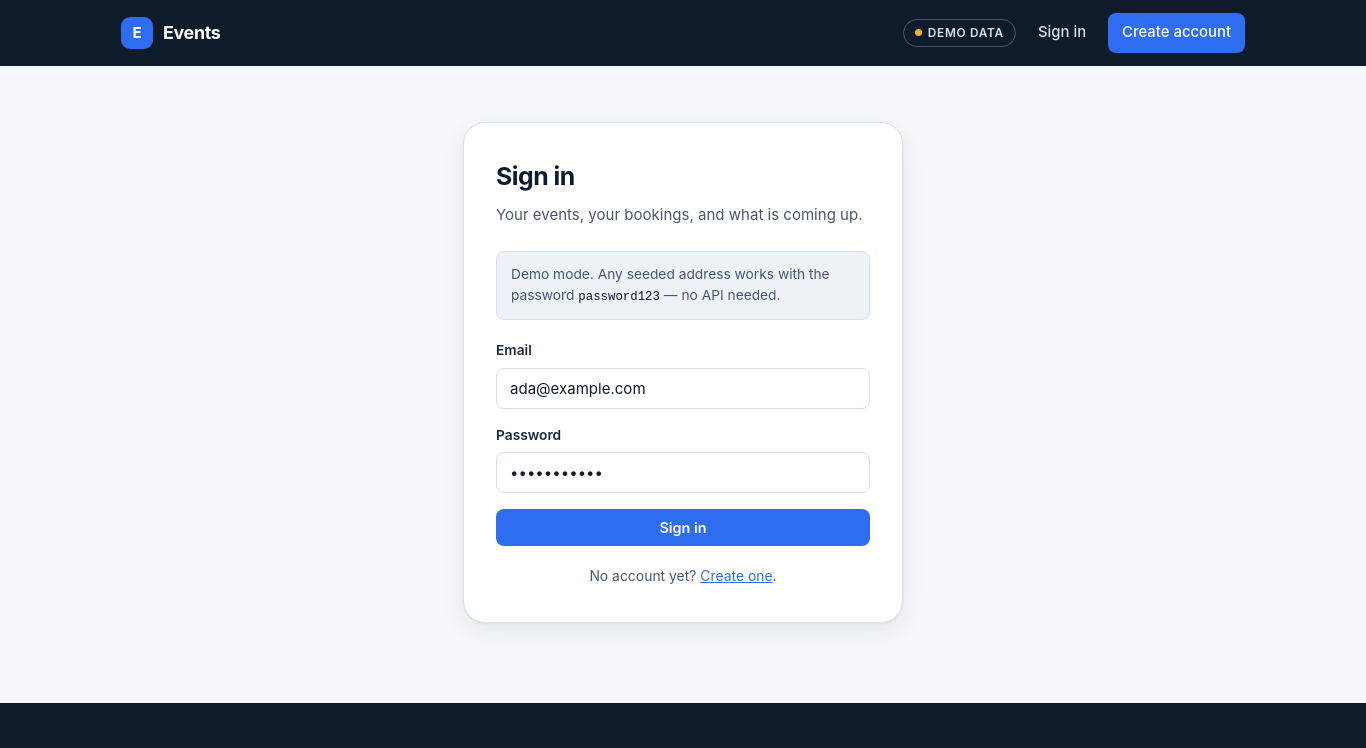
Test case: the signed-in home page › paginates the upcoming list rather than rendering every row
The image size is (1366, 748).
Step 1. Click the button "Sign in" → (683,527), box [496,509,870,546]
(page scrolled)
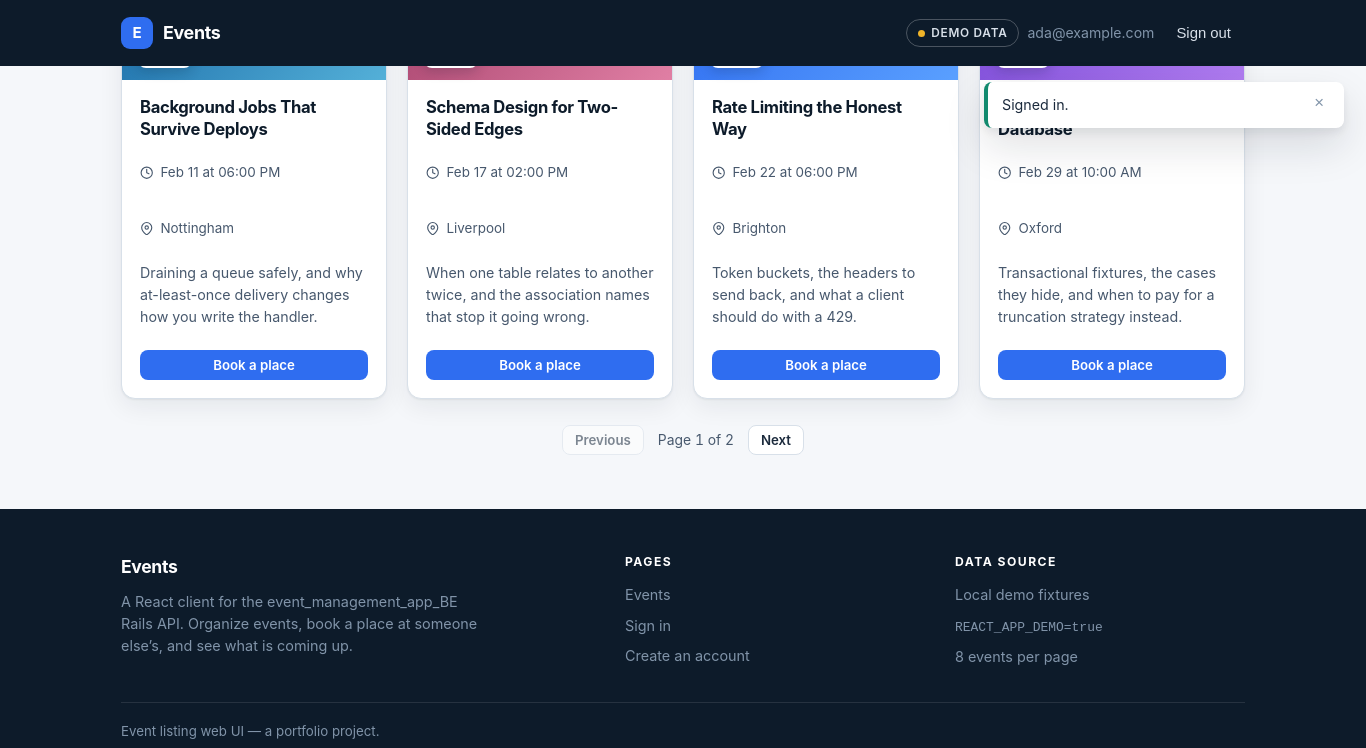
Expected: the text "Page 1 of 2" is shown, [658,430,734,451]
